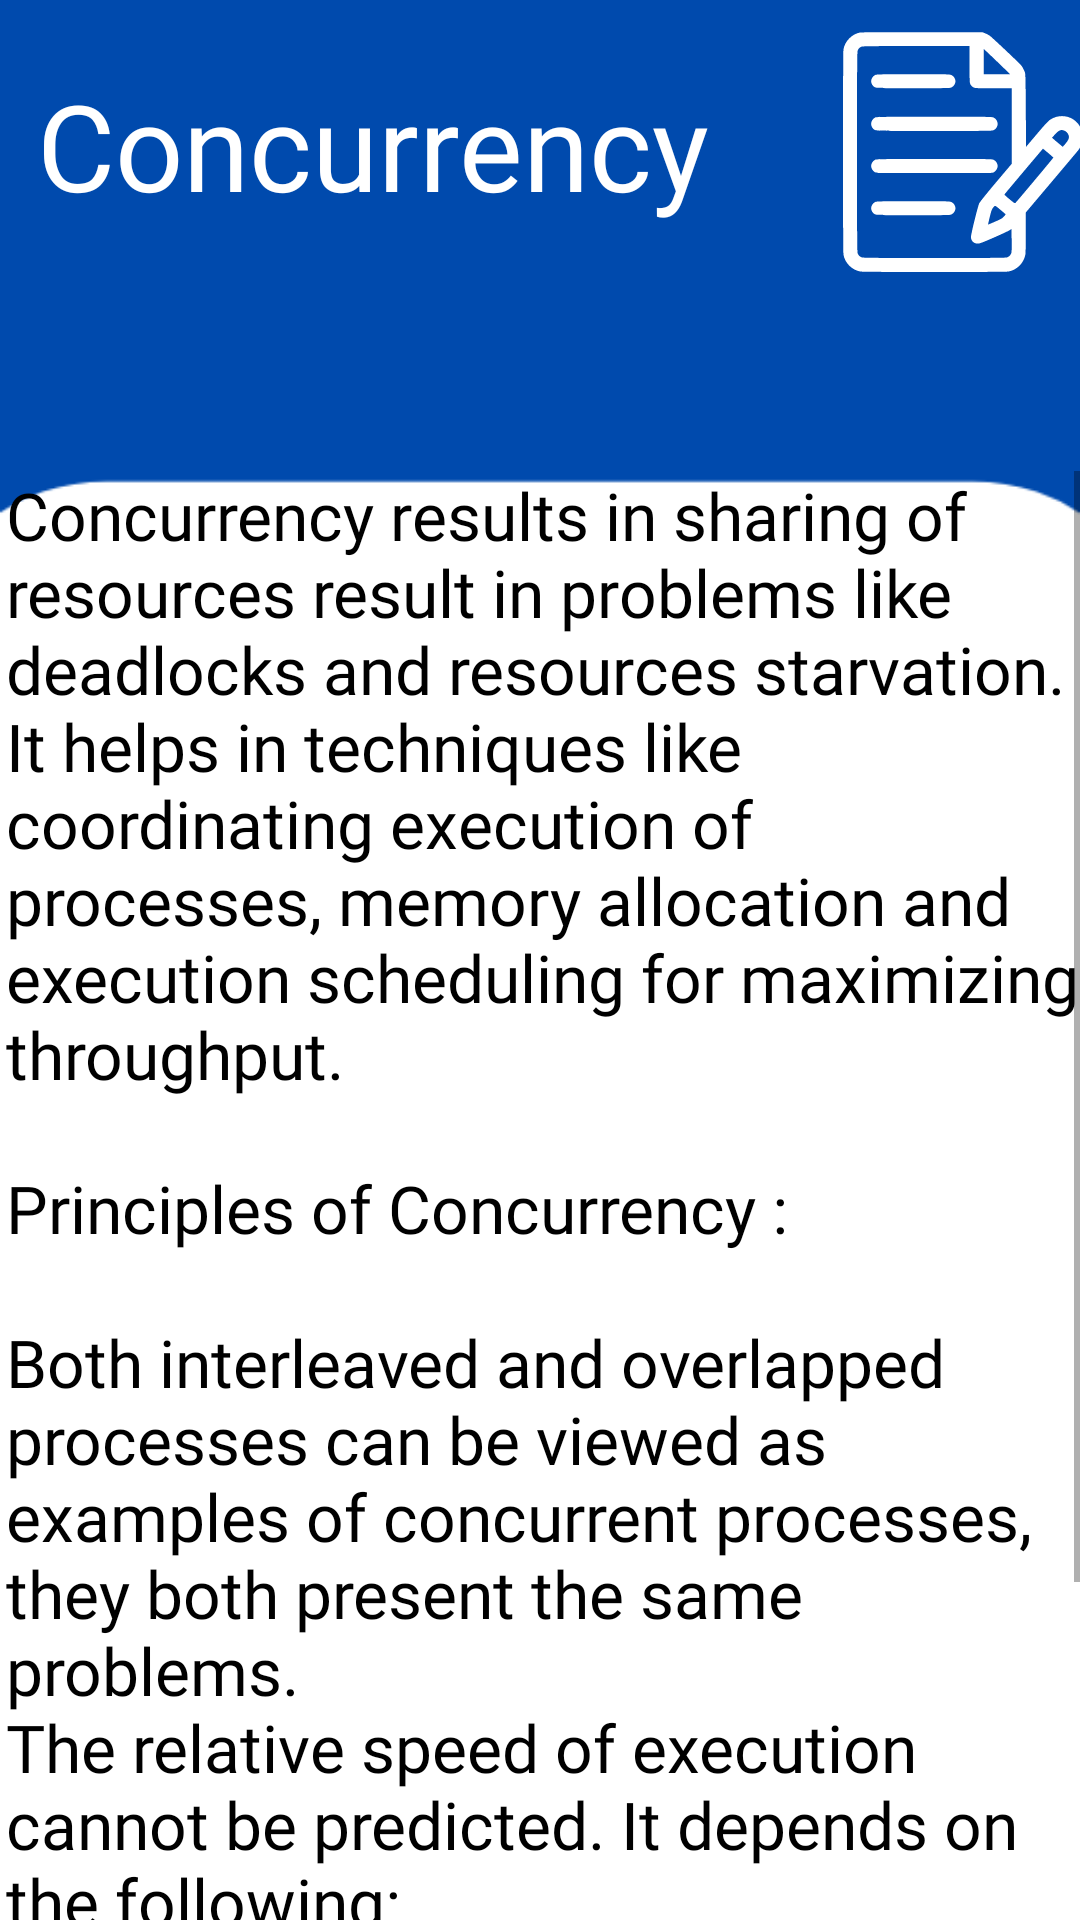

Screen size 1080px x 1920px. Icon name, then its box in pixels as (x1, y1, x2, y2):
notes: (843, 32, 1080, 272)
